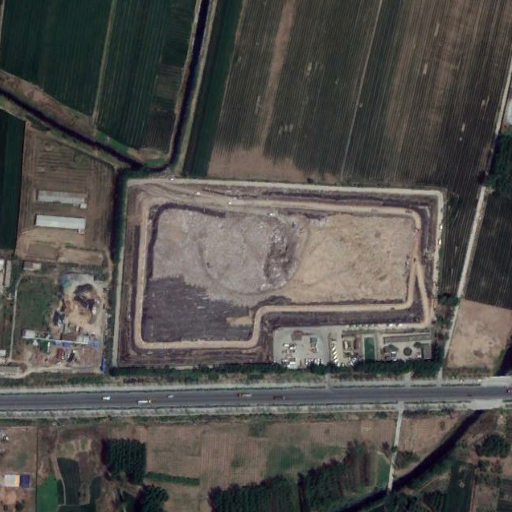lf: (114, 180, 442, 368)
